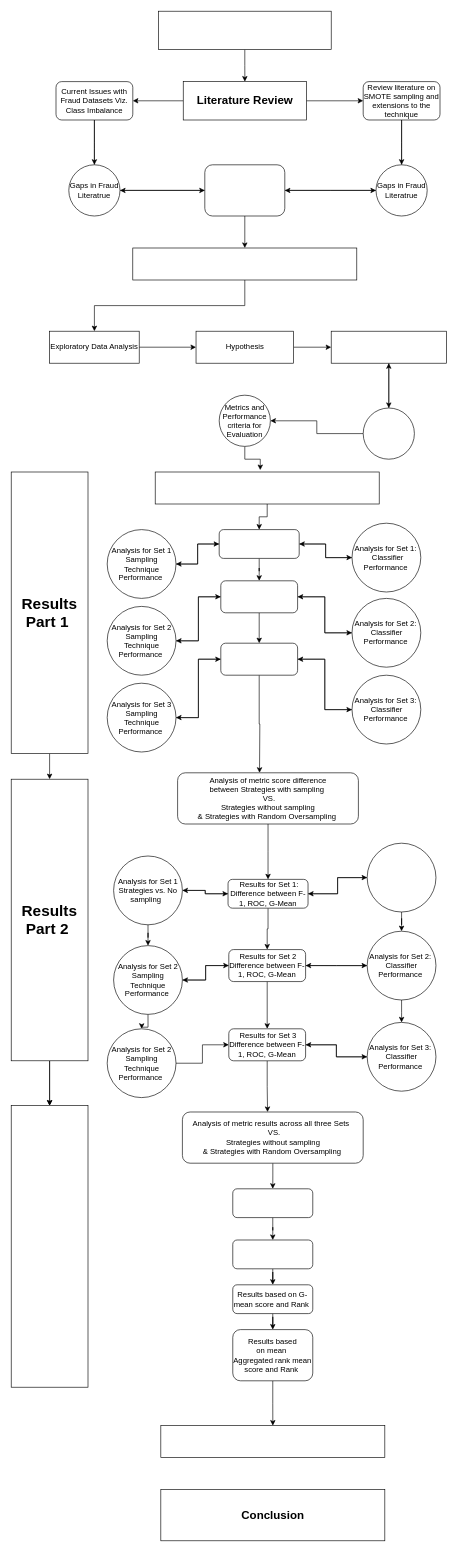
The diagram is 458 pixels wide and 1552 high, and some of its shapes have lost their labels. Each missing label, with the centre of its shape:
"Analysis for Set 1: Strategies vs. Random Oversampling" belongs at (x=401, y=877).
"Classifiers and sampling Techniques" belongs at (x=388, y=433).
"Current Gaps in Literature" belongs at (x=244, y=190).
"Evaluation and Analysis" belongs at (x=272, y=1441).
"Experimental Framework and Design" belongs at (x=388, y=347).
"Experimental Results." belongs at (x=267, y=487).
"Framing the Research" belongs at (x=244, y=30).
"Research Design and Methodology" belongs at (x=244, y=263).
"Results based on F-1 score and Rank" belongs at (x=272, y=1203).
"Results based on ROC score and Rank" belongs at (x=272, y=1254).
"Results for Set 1 Average Rank and Metric Score" belongs at (x=259, y=543).
"Results for Set 2-Average Rank and Metric Score" belongs at (x=259, y=596).
"Results for Set 3 Average Rank and Metric Score" belongs at (x=259, y=659).
"Results Part 3" belongs at (x=49, y=1246).
